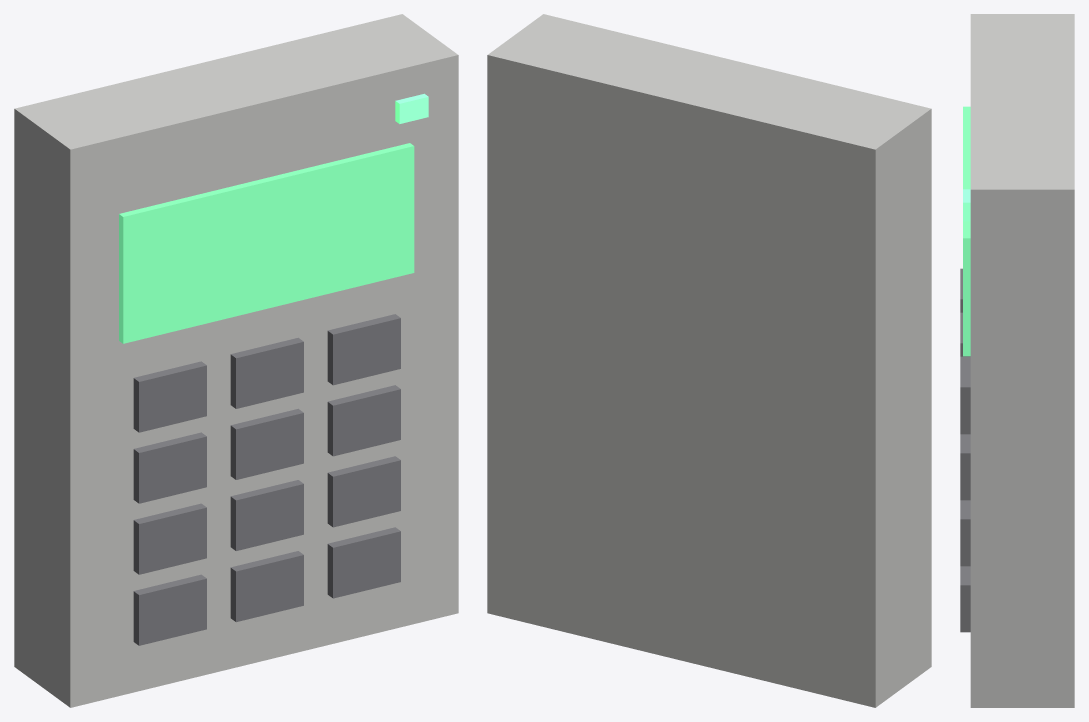
Rendered from burglar_alarm.glb.
3 views of the same model, side by side, from view 1: azimuth 30°, elevation 25°; view 2: azimuth 150°, elevation 25°; view 3: azimuth 270°, elevation 25° (orthographic). The views are drawn at different scales.
Visible parts, largest first — view 1: burglar_alarm; view 2: burglar_alarm; view 3: burglar_alarm.
Boxes of the visible parts, <box> form: burglar_alarm: <box>14,14,458,707</box>; burglar_alarm: <box>487,14,931,707</box>; burglar_alarm: <box>960,14,1074,707</box>.
Size of the model in its own units: 0.16 by 0.22 by 0.044.
